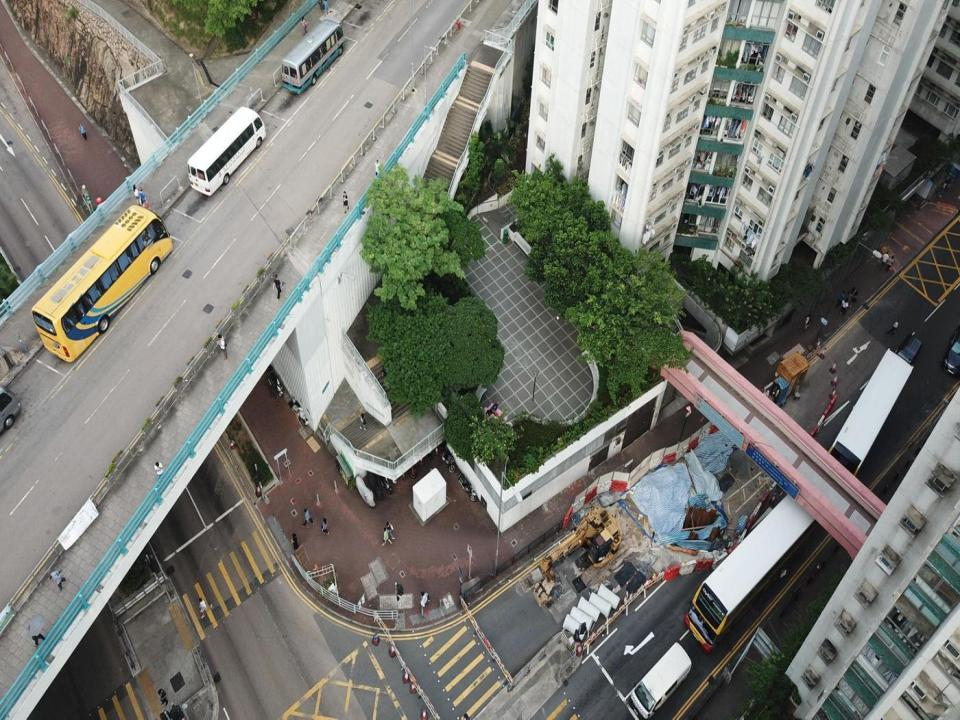bus: (684, 474, 838, 654), (31, 203, 173, 363), (824, 347, 913, 483), (188, 105, 266, 196), (281, 18, 345, 95)
car: (942, 322, 960, 376)
van: (628, 642, 692, 719), (890, 334, 922, 380)
